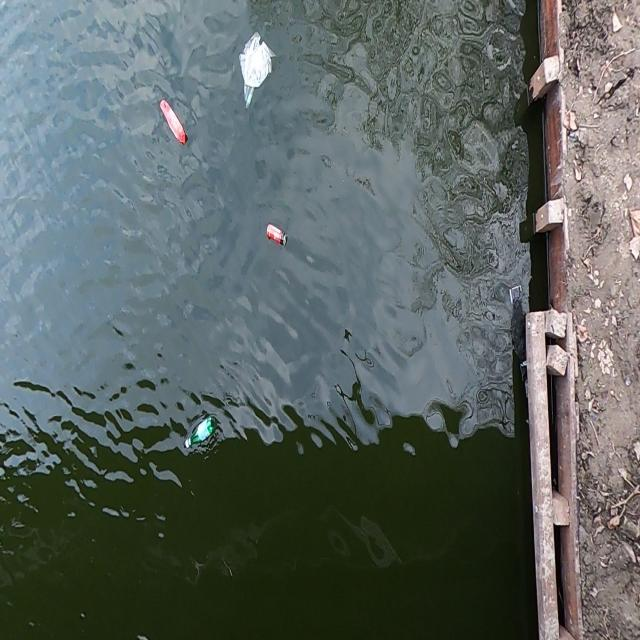Bouteille plastique: (183, 415, 220, 459)
Non plastique: (262, 220, 290, 253)
Sac plastique: (235, 29, 278, 116)
